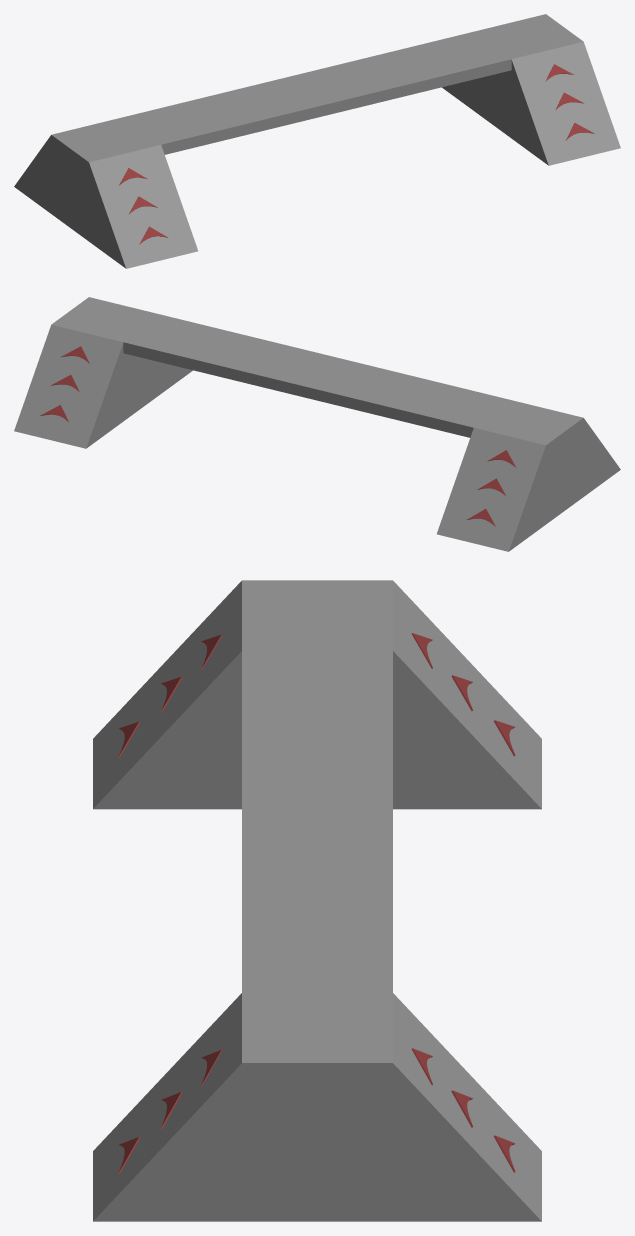
Rendered from qiao05.fbx.
The picture shows the model from 3 angles, top to bottom: view 1: azimuth 30°, elevation 25°; view 2: azimuth 150°, elevation 25°; view 3: azimuth 270°, elevation 25°; orthographic projection. The views are drawn at different scales.
Parts seen in each view (by area): view 1: 对象012; view 2: 对象012; view 3: 对象012.
Boxes of the visible parts, x1,y1,x2,y2 form: 对象012: (14, 14, 620, 268); 对象012: (14, 297, 620, 551); 对象012: (93, 580, 541, 1221).
Bounding box in the file's own units: 2146 × 329 × 843.
